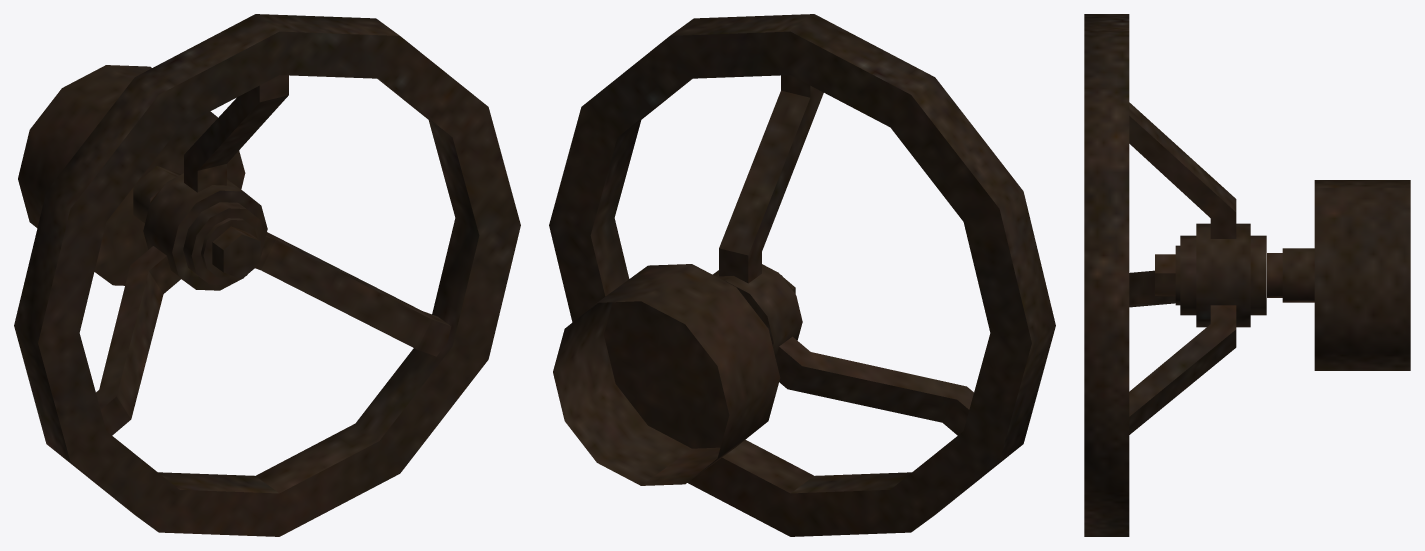
The model's file is pipe_valve_holder_large_2.obj.
3 views of the same model, side by side, from view 1: azimuth 30°, elevation 25°; view 2: azimuth 150°, elevation 25°; view 3: azimuth 270°, elevation 25° (orthographic). The views are drawn at different scales.
Visible parts, largest first — view 1: valve_mp_1, pipe_valve_holder_large_2; view 2: valve_mp_1, pipe_valve_holder_large_2; view 3: valve_mp_1, pipe_valve_holder_large_2.
Part boxes in pixels (box(x1,y1,x2,y2)): valve_mp_1: box(14, 14, 520, 536); pipe_valve_holder_large_2: box(18, 65, 245, 285); valve_mp_1: box(549, 14, 1055, 536); pipe_valve_holder_large_2: box(553, 264, 780, 485); valve_mp_1: box(1084, 14, 1282, 536); pipe_valve_holder_large_2: box(1282, 180, 1410, 370).
Bounding box in the file's own units: 0.3283 × 0.3283 × 0.2041.
